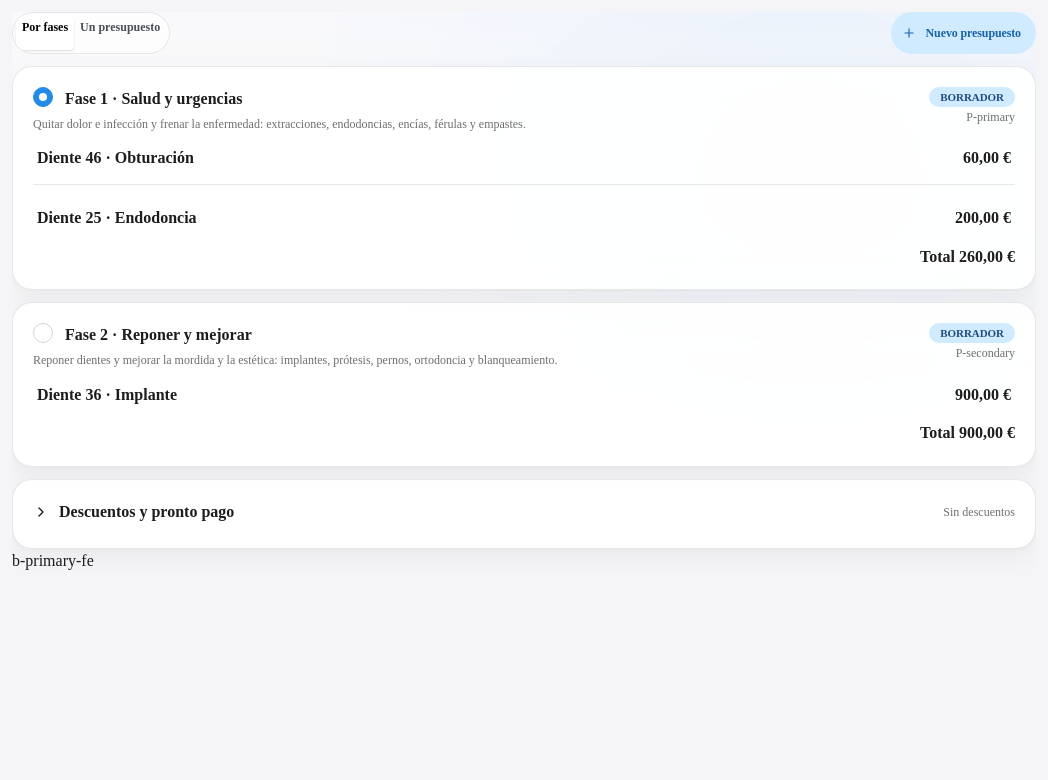
Test: the patient can choose to sign the second phase instead
The image size is (1048, 780).
Click the radio button with aria-label "Firmar Fase 2 · Reponer y mejorar" at point(43, 333), box 33,323 -> 53,343
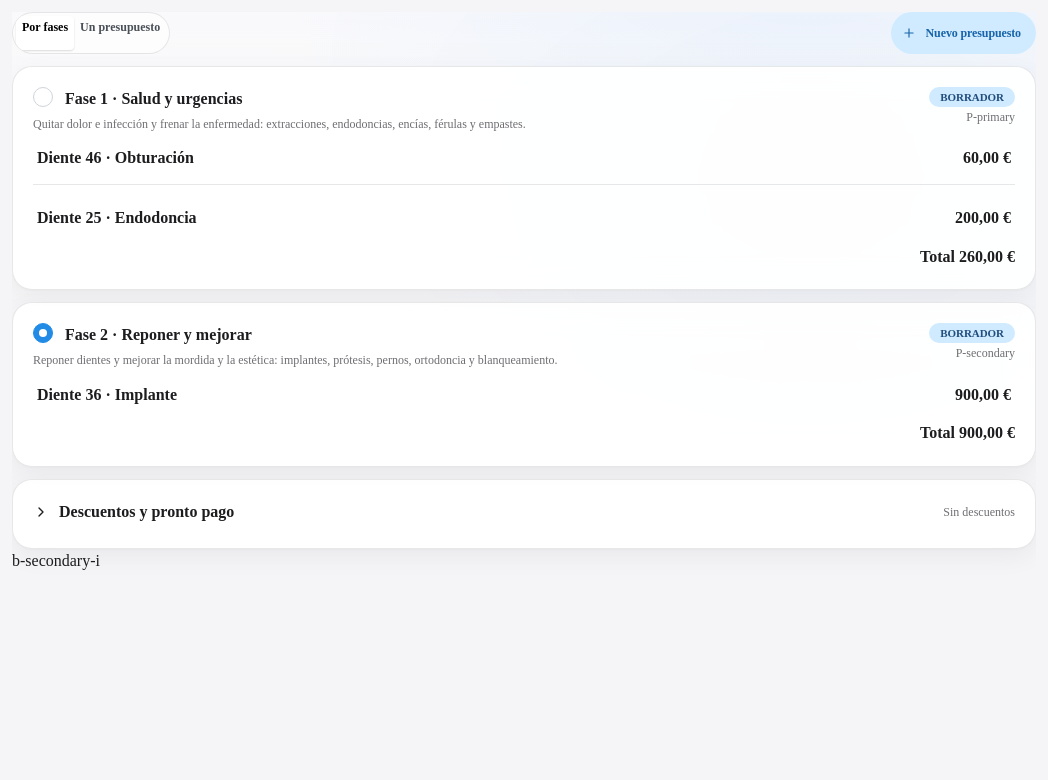
Expected: the text named "Seleccionado" reads "b-secondary-i", 12,552 -> 100,569
